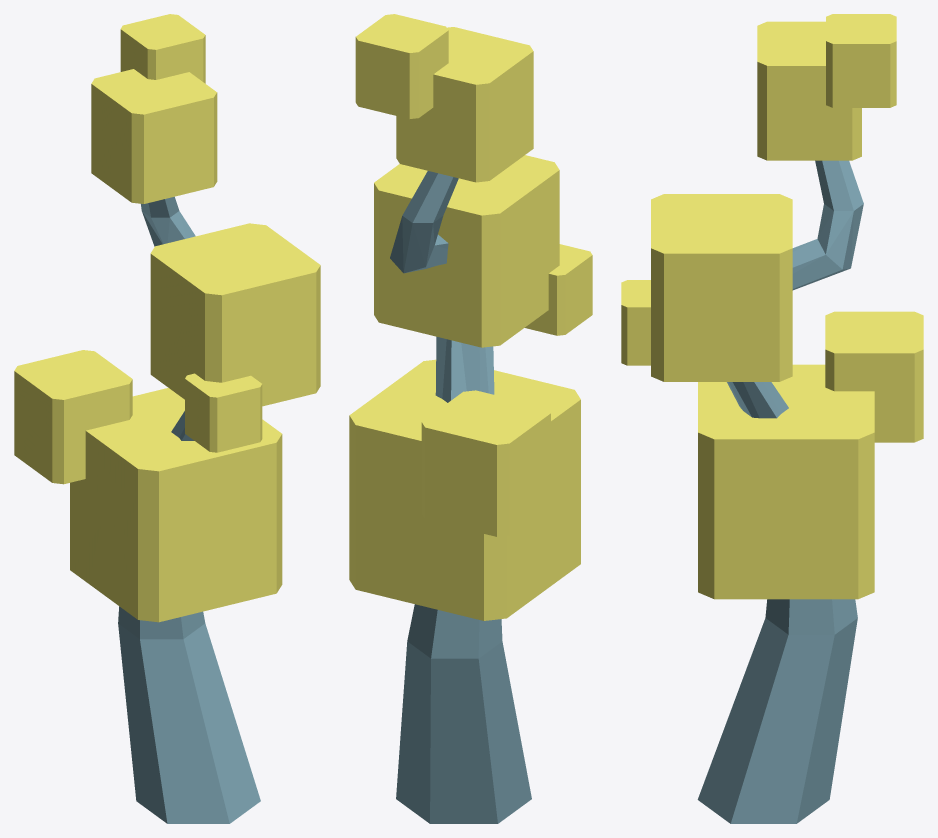
3 renders of one model, left to right at view 1: azimuth 30°, elevation 25°; view 2: azimuth 150°, elevation 25°; view 3: azimuth 270°, elevation 25°, orthographic. The views are drawn at different scales.
Visible parts, largest first — view 1: Cube; view 2: Cube; view 3: Cube.
Boxes of the visible parts, bbox=[...] form: Cube: bbox=[14, 14, 320, 823]; Cube: bbox=[349, 14, 592, 823]; Cube: bbox=[621, 14, 923, 823].
Bounding box in the file's own units: 1.47 × 5.49 × 1.94.
